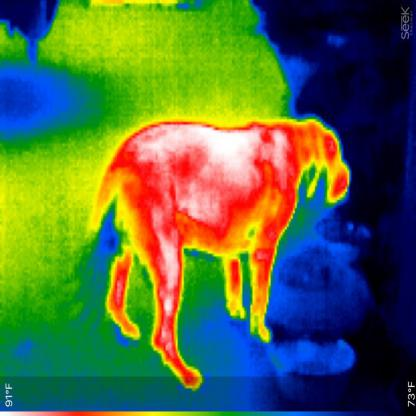dog: (82, 114, 354, 393)
